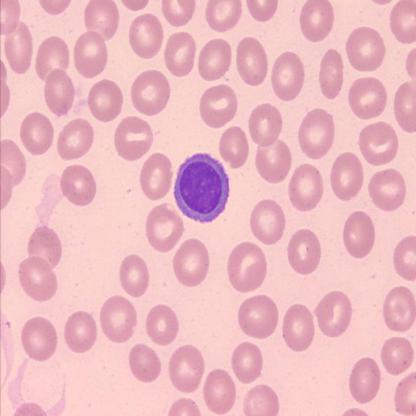Lymphocyte: (172, 152, 231, 225)
